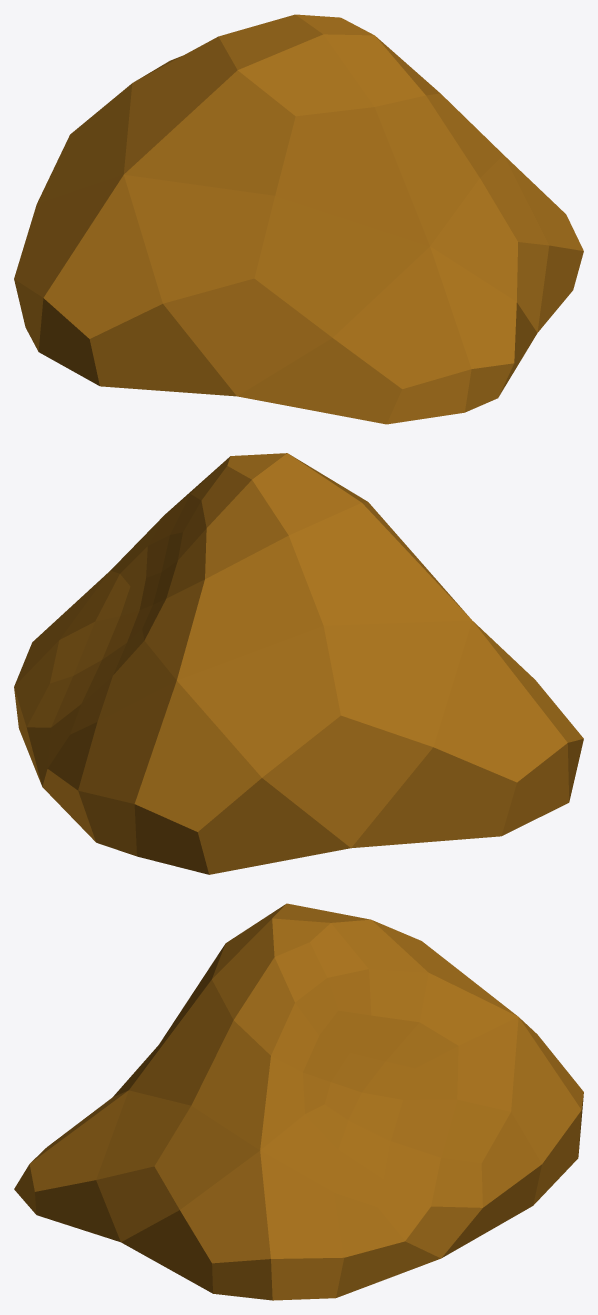
File: Rock.fbx
3 renders of one model, top to bottom at view 1: azimuth 30°, elevation 25°; view 2: azimuth 150°, elevation 25°; view 3: azimuth 270°, elevation 25°, orthographic. The views are drawn at different scales.
Visible parts, largest first — view 1: Cone; view 2: Cone; view 3: Cone.
Part boxes in pixels (x1=…): Cone: x1=14, y1=14, x2=583, y2=424; Cone: x1=14, y1=453, x2=583, y2=874; Cone: x1=14, y1=903, x2=583, y2=1300.
Size of the model in its own units: 328 by 188 by 323.
